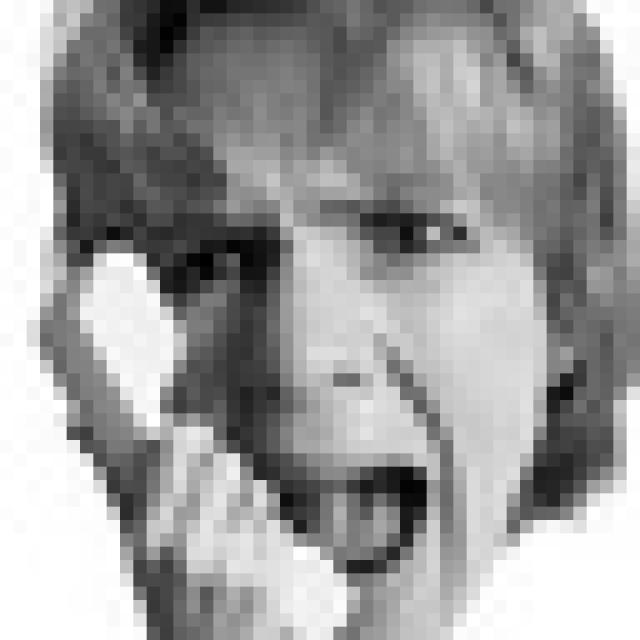angry: (157, 191, 496, 576)
